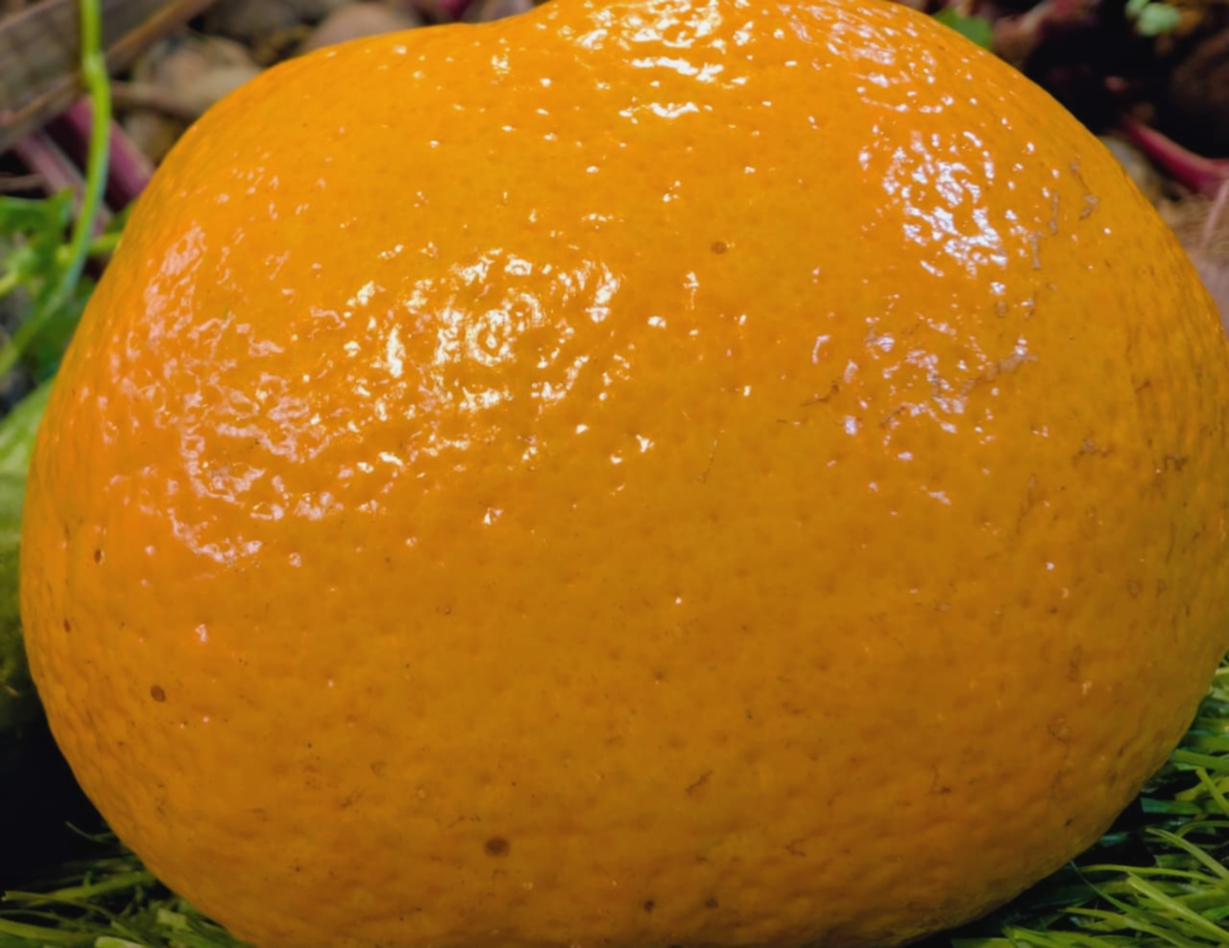orange: (318, 140, 1125, 857)
